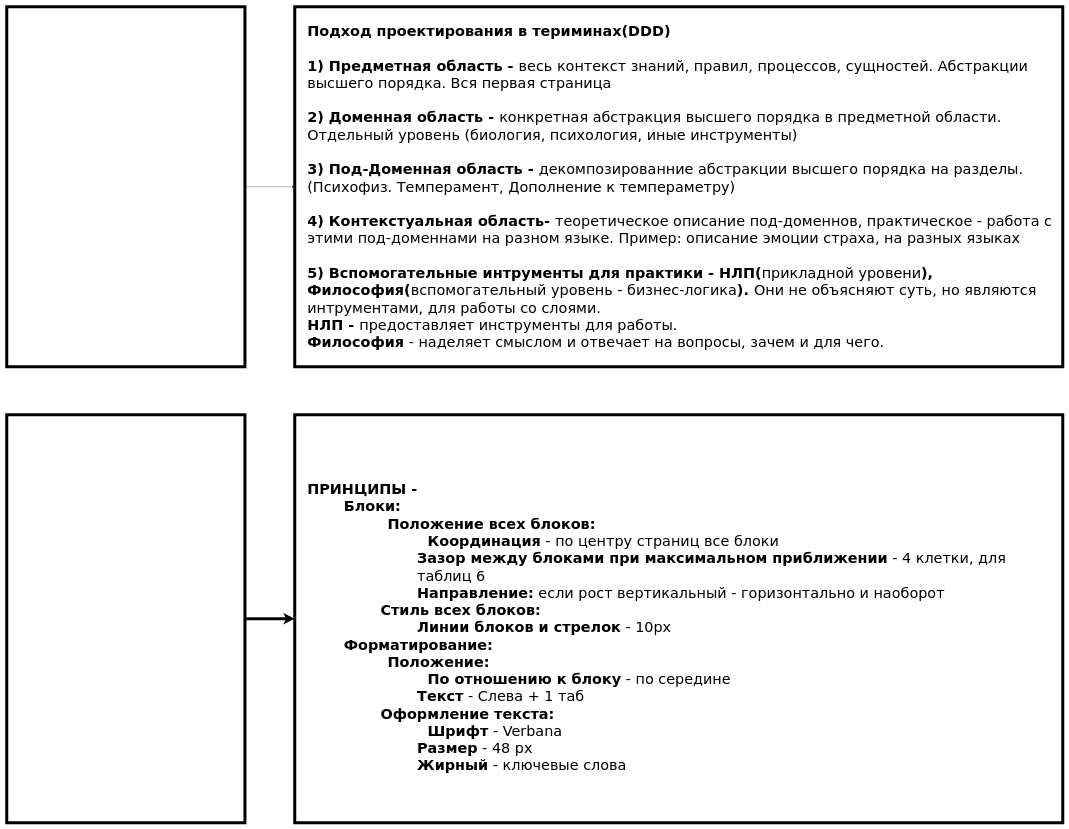
Some shapes in this 1069 by 829 pixel diagram are drawn without their labels. The shapes that lost their labels are listed below. From the top down, each one's centre as x and y in pixels, then its label:
At (125,186): "Общие принципы оформления страниц".
At (125,618): "Общие принципы оформления диаграммы".
